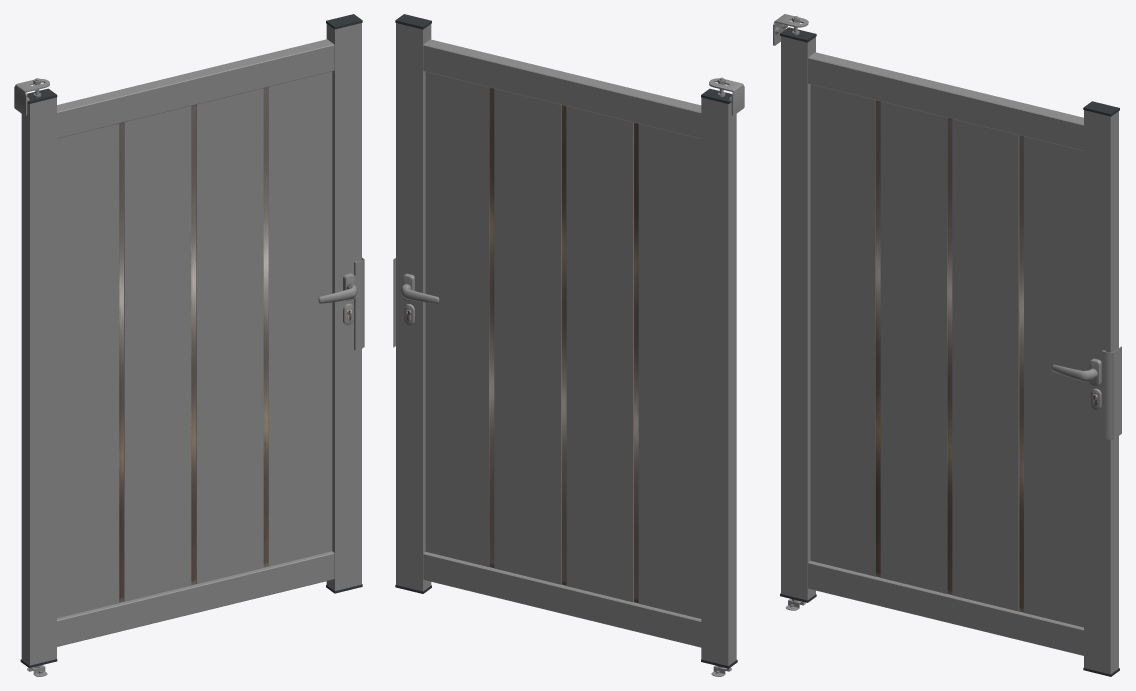
The picture shows the model from 3 angles, left to right: view 1: azimuth 30°, elevation 25°; view 2: azimuth 150°, elevation 25°; view 3: azimuth 330°, elevation 25°; orthographic projection.
Parts seen in each view (by area): view 1: Shape185, Shape189, Shape193, Shape181, Shape107412643, Shape107412638, Shape107412041, Shape107412043, Shape190, Shape186, Shape182, Shape107412637 (+1 smaller); view 2: Shape185, Shape189, Shape193, Shape181, Shape107412643, Shape107412638, Shape107412041, Shape107412043, Shape190, Shape186, Shape182, Rectangle057; view 3: Shape185, Shape189, Shape181, Shape193, Shape107412638, Shape107412643, Shape107412041, Shape107412043, Shape186, Shape182, Shape190, Shape107412637.
Boxes of the visible parts, box(x1,y1,x2,y2) form: Shape185: box(124, 106, 191, 601); Shape189: box(196, 88, 263, 583); Shape193: box(268, 71, 332, 566); Shape181: box(57, 123, 119, 618); Shape107412643: box(21, 97, 56, 665); Shape107412638: box(326, 23, 361, 590); Shape107412041: box(57, 39, 334, 138); Shape107412043: box(57, 551, 334, 646); Shape190: box(263, 87, 268, 567); Shape186: box(191, 105, 196, 585); Shape182: box(119, 122, 123, 602); Shape107412637: box(354, 257, 364, 350); Shape185: box(566, 106, 633, 602); Shape189: box(494, 88, 561, 584); Shape193: box(425, 72, 489, 566); Shape181: box(638, 124, 701, 618); Shape107412643: box(701, 97, 736, 665); Shape107412638: box(396, 23, 431, 591); Shape107412041: box(423, 39, 701, 138); Shape107412043: box(423, 552, 701, 647); Shape190: box(489, 87, 494, 567); Shape186: box(561, 105, 566, 585); Shape182: box(634, 122, 638, 603); Rectangle057: box(709, 78, 744, 115); Shape185: box(880, 101, 947, 593); Shape189: box(952, 119, 1019, 611); Shape181: box(810, 84, 875, 576); Shape193: box(1024, 136, 1083, 627); Shape107412638: box(1084, 110, 1118, 674); Shape107412643: box(781, 36, 815, 600); Shape107412041: box(808, 52, 1083, 150); Shape107412043: box(808, 561, 1083, 655); Shape186: box(947, 118, 952, 594); Shape182: box(875, 100, 880, 577); Shape190: box(1019, 135, 1023, 612); Shape107412637: box(1101, 346, 1121, 439).
Bounding box in the file's own units: 1015 × 1688 × 152.
Materials: 7 (4 with a texture image).
